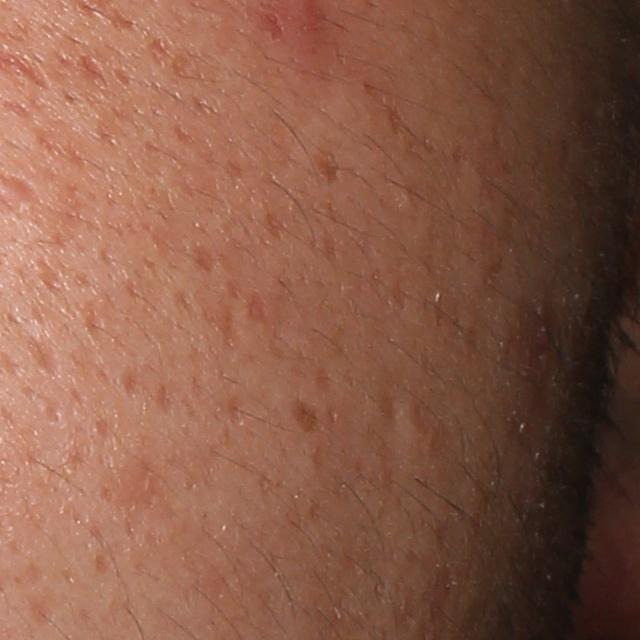atrophic_scar: (24, 334, 63, 377), (2, 175, 41, 206), (225, 390, 247, 431), (382, 394, 402, 434), (249, 289, 270, 321)
